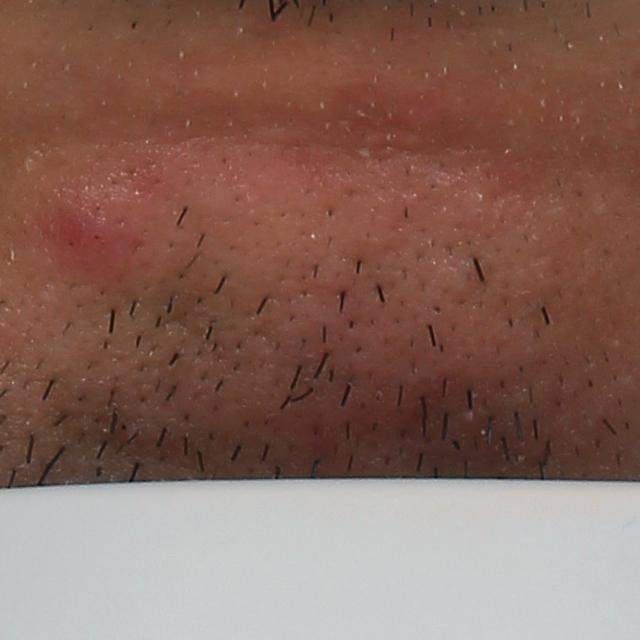papule: (37, 192, 139, 289)
